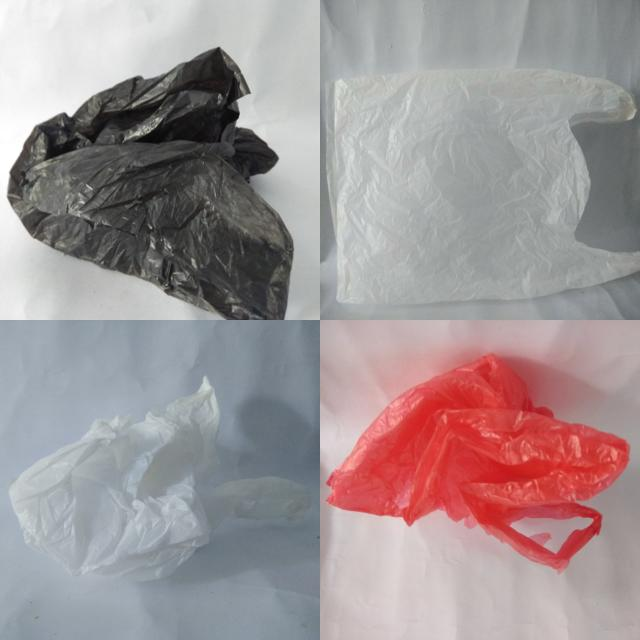Single-layer Plastic: (8, 48, 292, 319), (328, 69, 640, 304), (328, 354, 629, 571), (9, 378, 310, 581)
